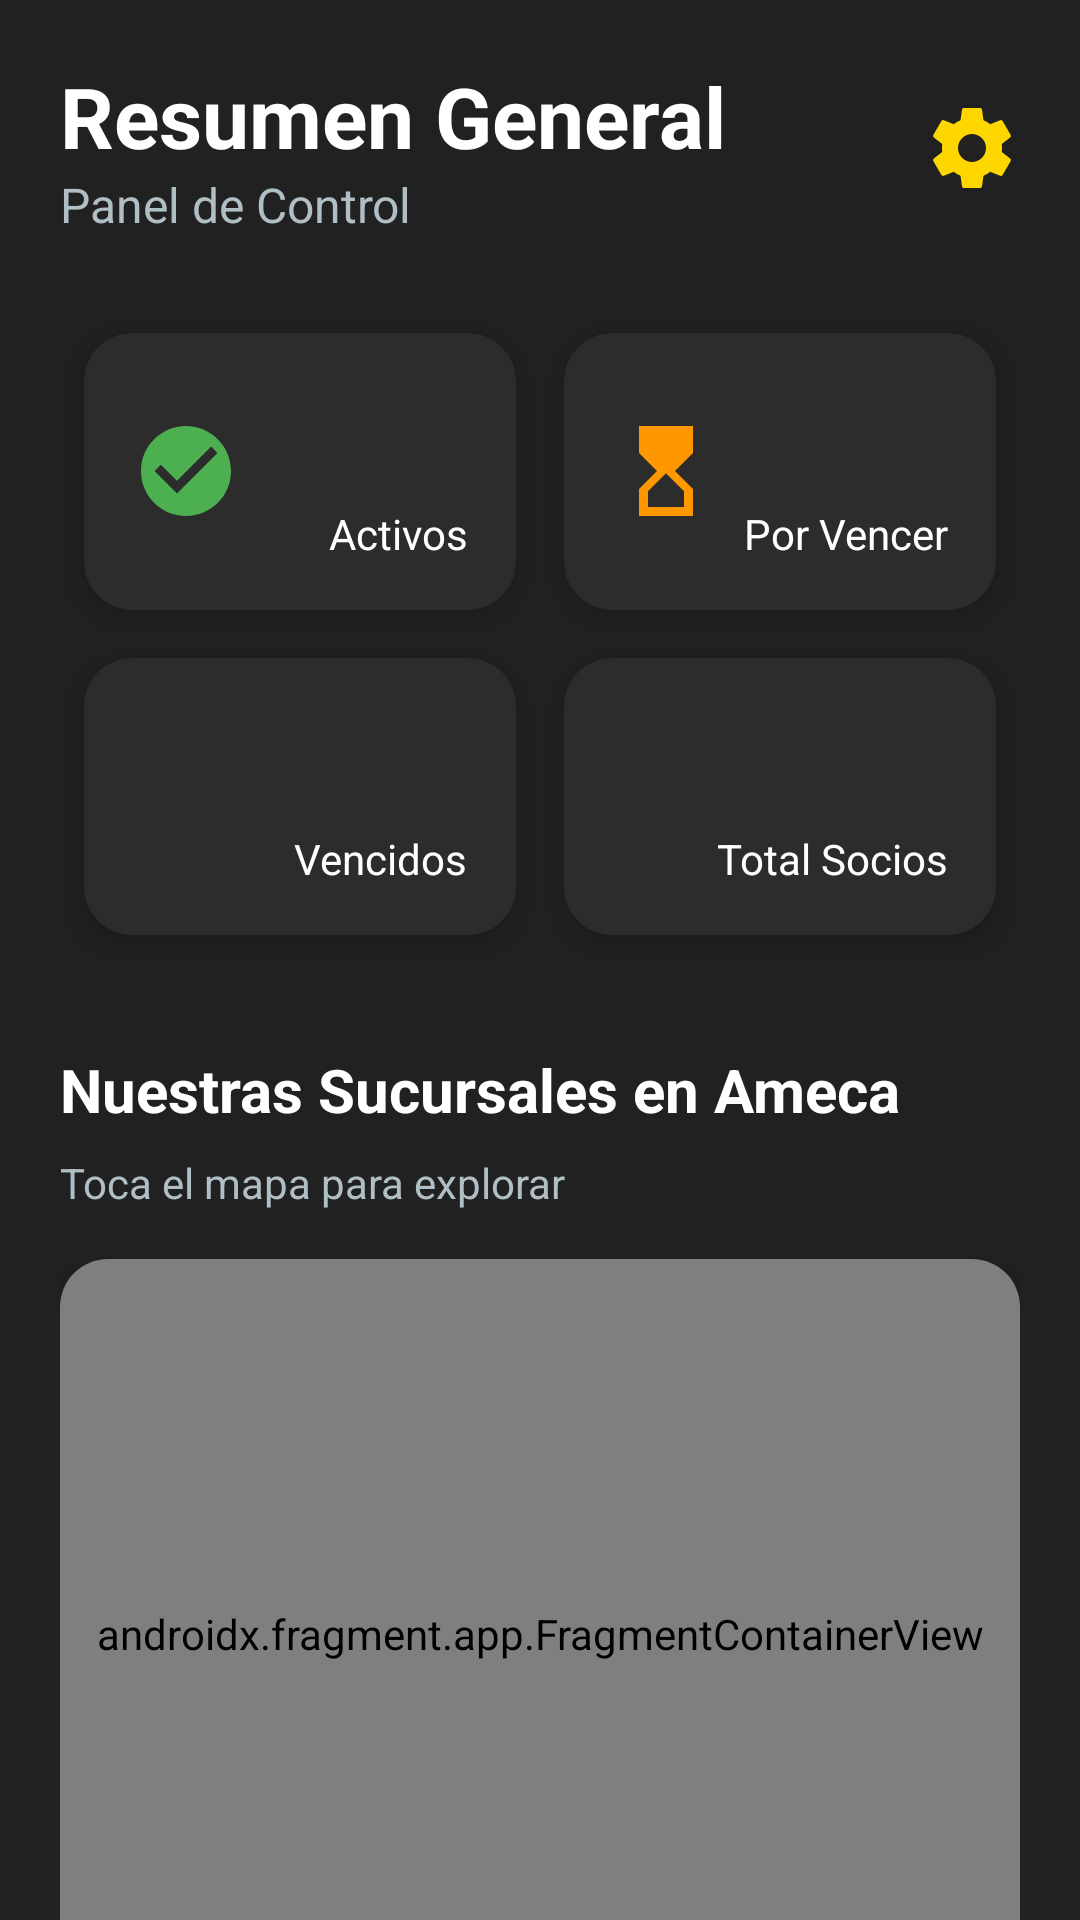

Locate icon controls on the screen. Image size 1080x1920, boxes as (x1, y1, x2, y2).
check circle: (141, 426, 231, 516)
hourglass: (639, 426, 693, 516)
settings: (933, 108, 1011, 188)
